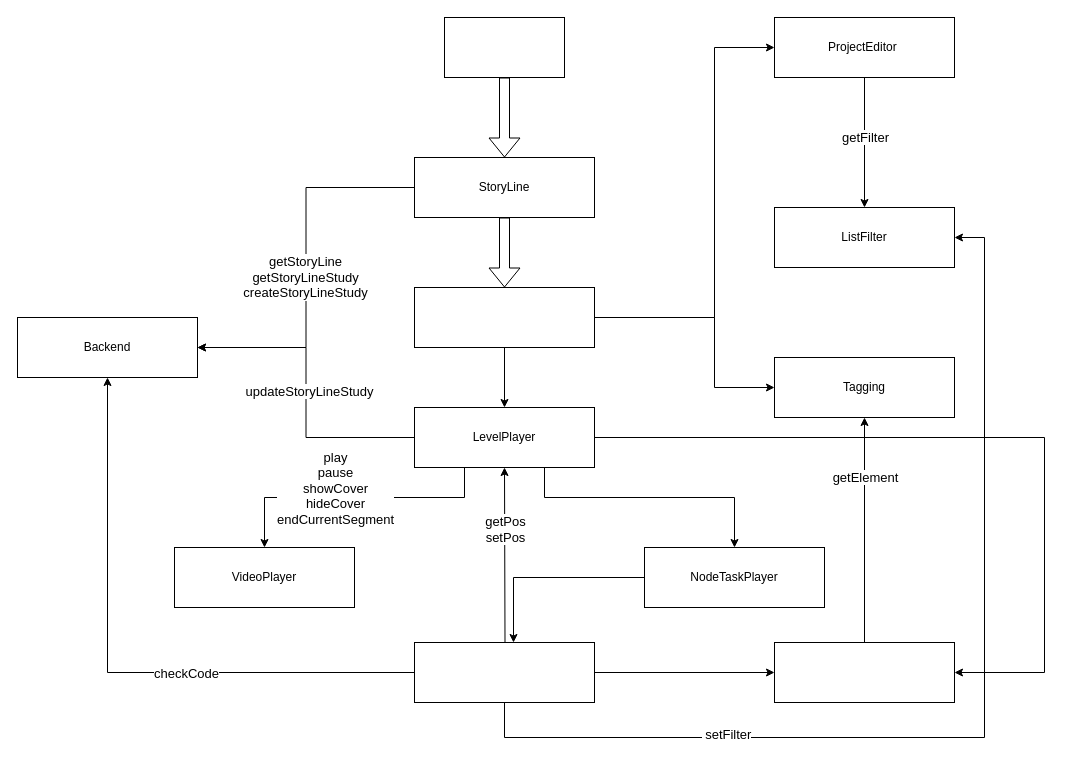
Some shapes in this 1070 by 763 pixel diagram are drawn without their labels. The shapes that lost their labels are listed below. From the top down, each one's centre as x and y in pixels, then its label:
point (504, 47): Home
point (504, 317): ProjectEditorWithGuidance
point (504, 672): StepPlayer
point (864, 672): Mask
